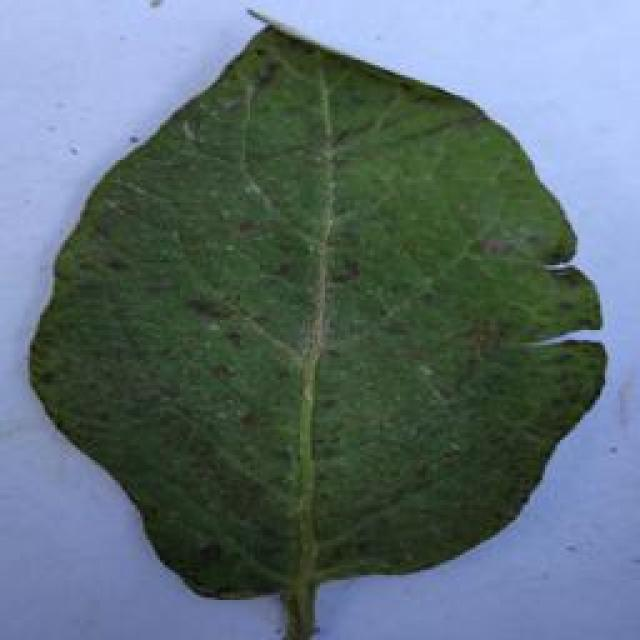Potato_Early_Blight: (34, 24, 598, 596)
